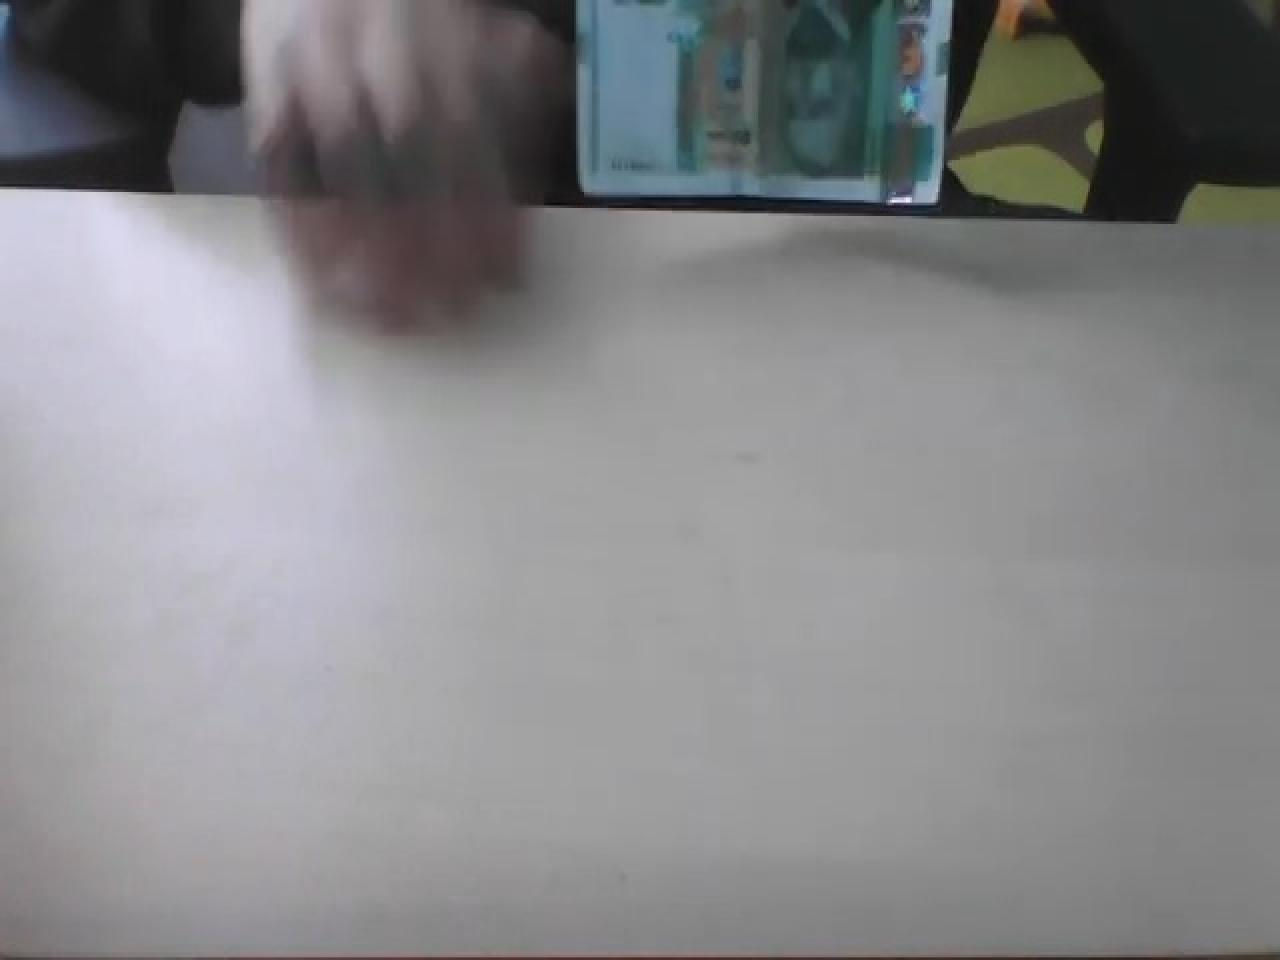100leva: (572, 0, 954, 208)
